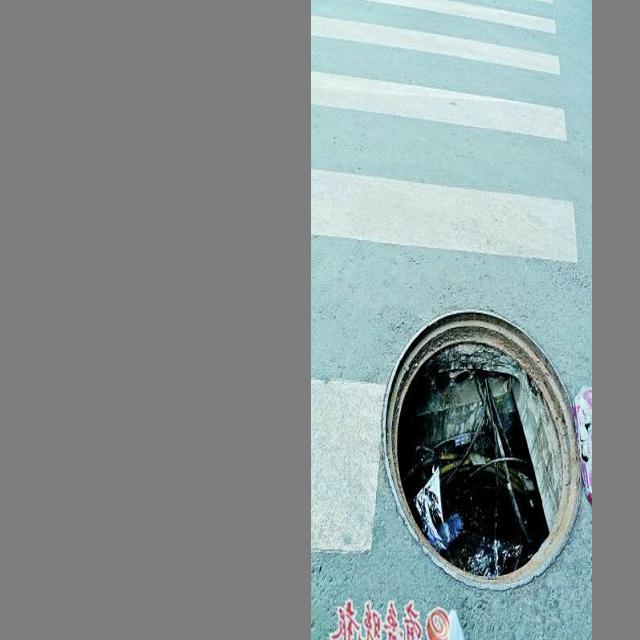lose: (379, 297, 579, 588)
